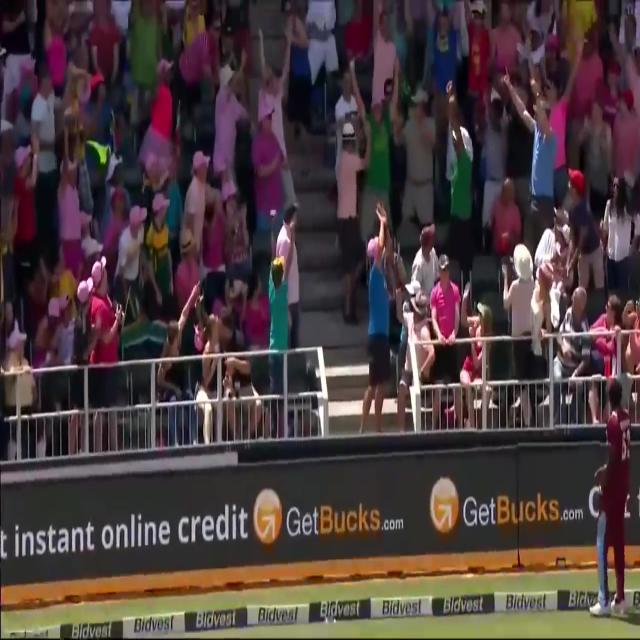Fielder: (588, 370, 640, 618)
